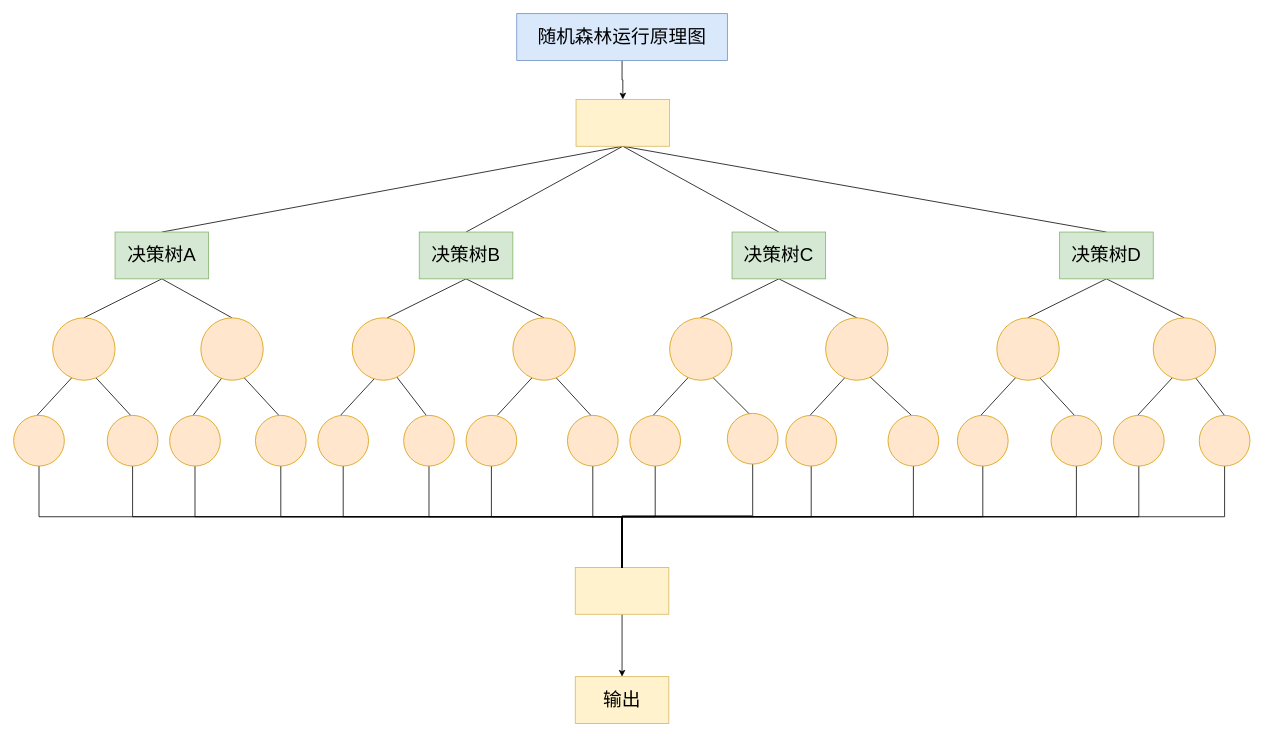
Some shapes in this 1264 by 737 pixel diagram are drawn without their labels. The shapes that lost their labels are listed below. From the top down, each one's centre as x and y in pixels, then its label:
point (622, 122): 输入
point (621, 590): 结合器
